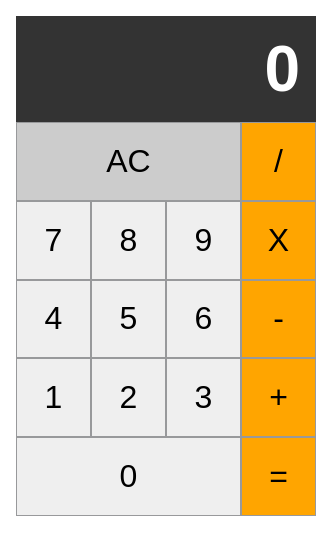
test counter › clears total when AC pushed
Click the button "1" at (54, 398), box [16,358,91,437]
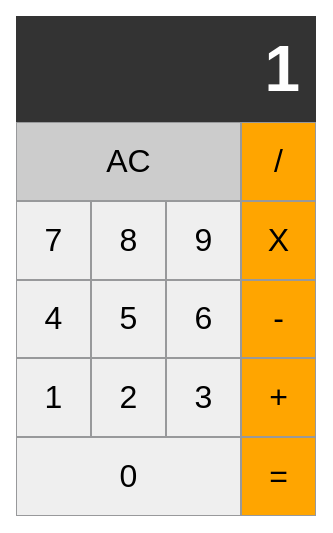
Click the button "5" at (129, 320), box [91,280,166,359]
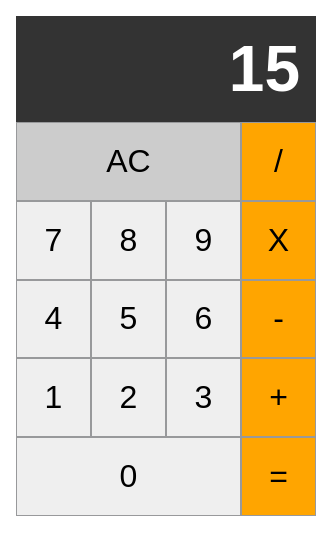
Click the button with class "modifier" at (129, 162), box [16,122,241,201]
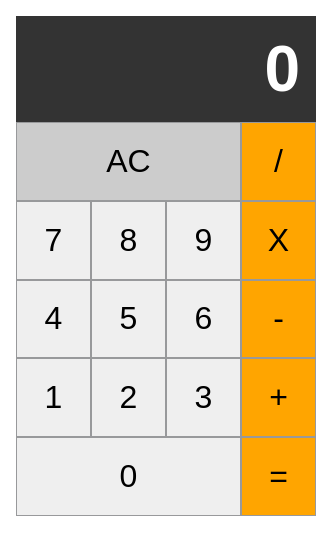
expect the heading with id "total" reads "0": met, box [16,16,316,122]
